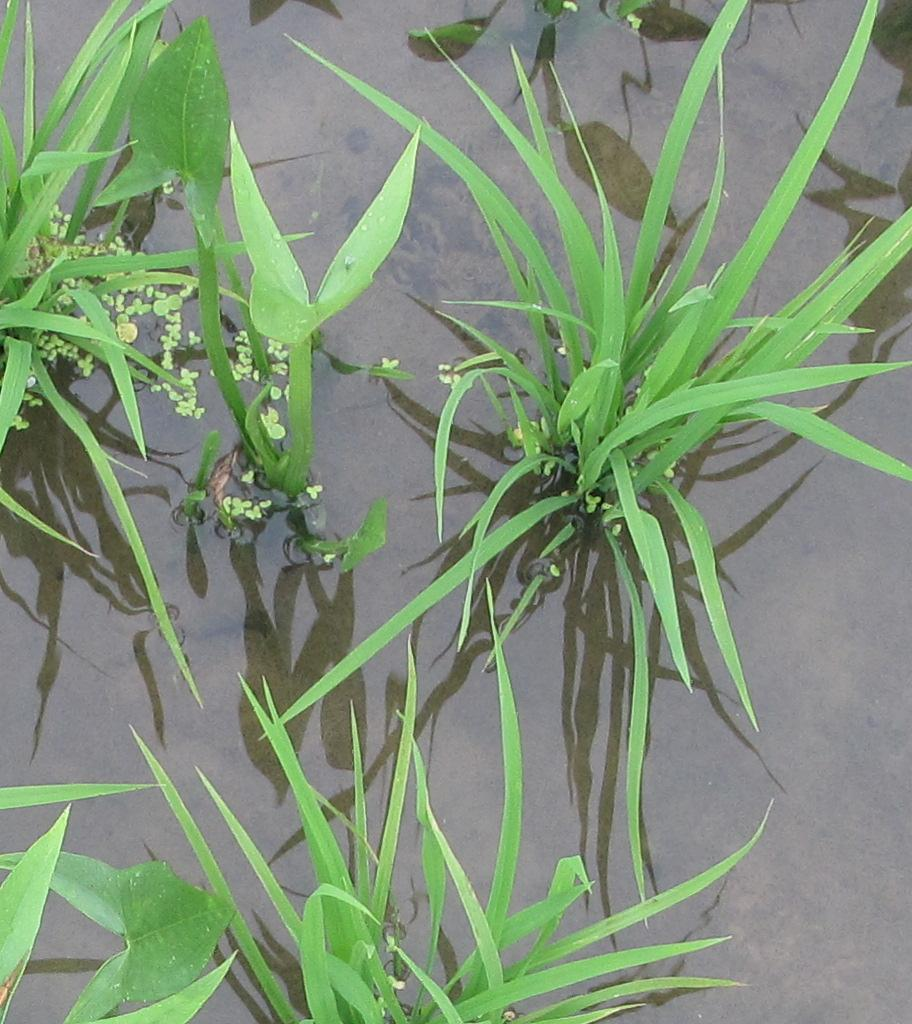Weed: (132, 21, 411, 517), (8, 794, 232, 1016)
